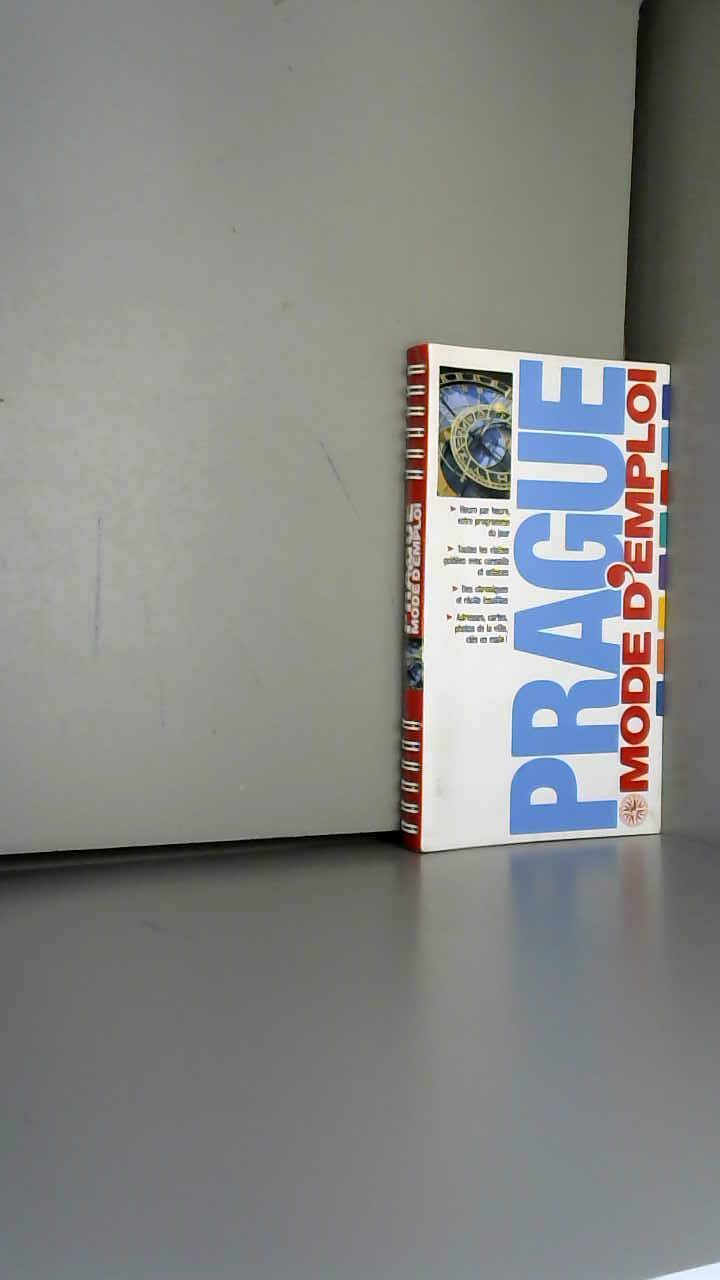book: (370, 310, 720, 870)
